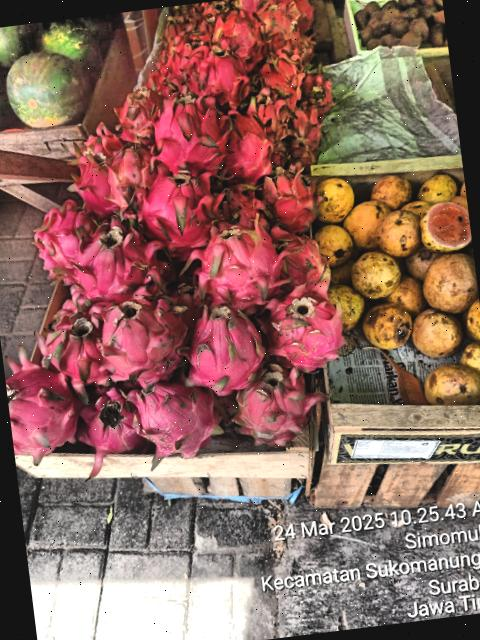buah-naga-matang: (3, 346, 79, 466), (96, 293, 193, 387), (126, 368, 222, 461), (260, 283, 346, 380), (148, 83, 236, 176), (191, 216, 279, 306), (231, 362, 318, 451), (183, 299, 269, 389), (136, 163, 221, 252), (72, 215, 158, 301), (30, 298, 109, 387), (76, 381, 151, 464), (260, 160, 328, 243), (32, 202, 98, 284), (272, 228, 338, 301), (68, 136, 121, 219), (216, 110, 275, 178), (109, 84, 166, 148), (188, 42, 247, 102), (100, 141, 154, 202), (216, 178, 274, 232), (246, 93, 282, 130)
